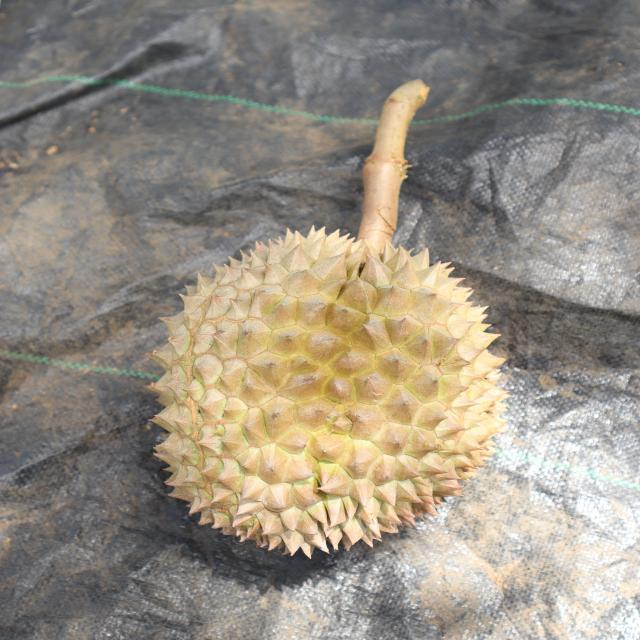mature: (147, 227, 512, 562)
